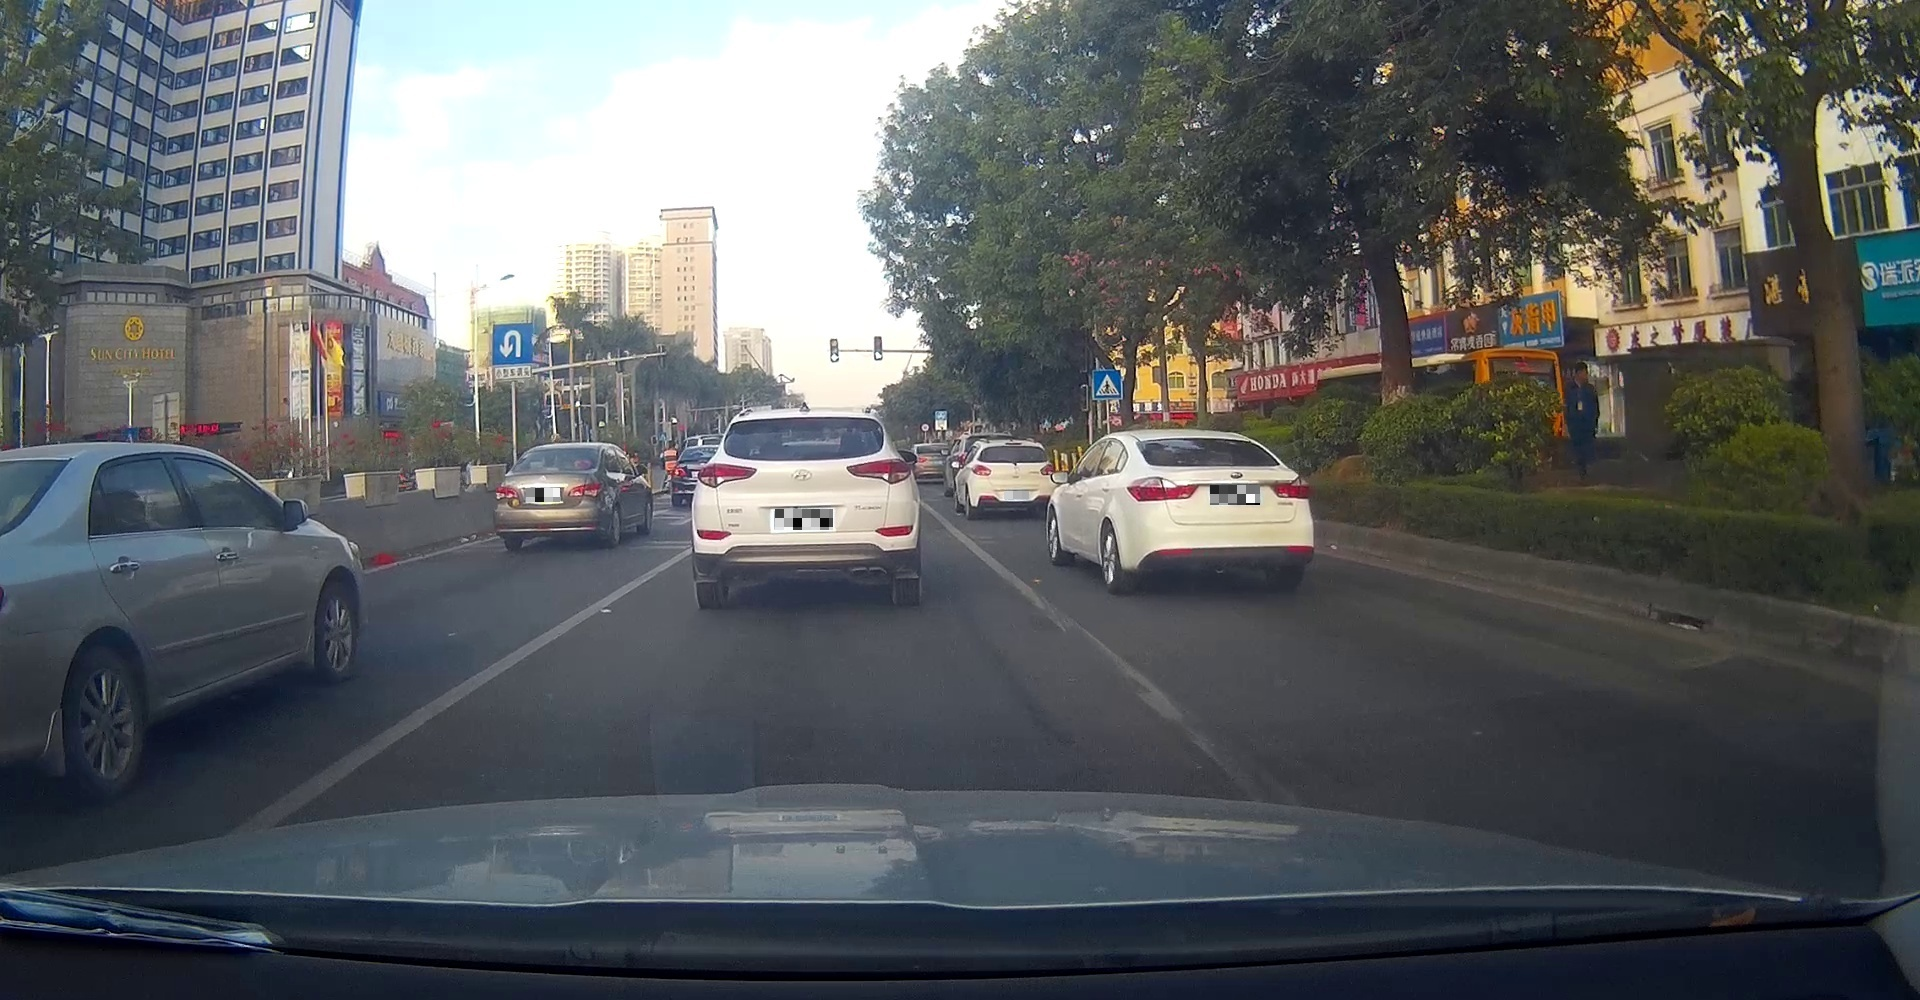L_light: (1125, 476, 1199, 503), (846, 457, 912, 484), (697, 462, 757, 487), (495, 485, 518, 501), (970, 463, 990, 476)
R_light: (1269, 473, 1310, 499), (568, 481, 603, 497), (1040, 463, 1054, 475)
T_light: (792, 418, 820, 426), (1189, 439, 1211, 445), (541, 467, 559, 472), (1008, 447, 1022, 451)
day-no: (691, 407, 918, 609), (1121, 429, 1314, 589), (493, 442, 608, 551), (968, 440, 1055, 518)
plate_1: (526, 489, 560, 503)
plate_2: (775, 509, 833, 530)
plate_3: (1004, 491, 1029, 499)
plate_4: (1210, 485, 1260, 505)
